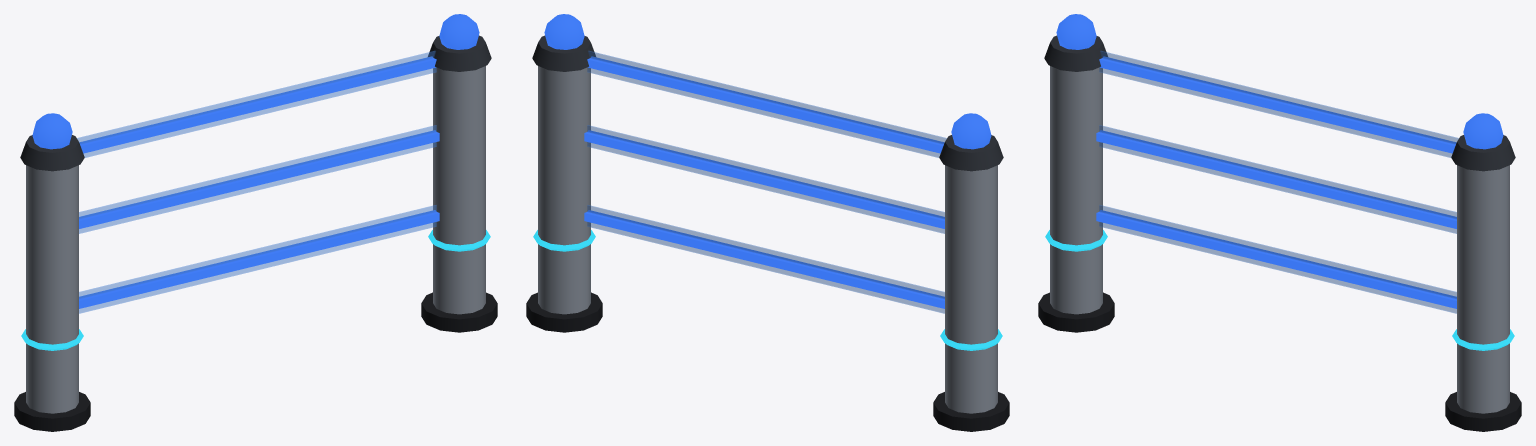
File: forcefield_barrier_bollards.glb
3 renders of one model, left to right at view 1: azimuth 30°, elevation 25°; view 2: azimuth 150°, elevation 25°; view 3: azimuth 330°, elevation 25°, orthographic.
Visible parts, largest first — view 1: forcefield_barrier_bollards; view 2: forcefield_barrier_bollards; view 3: forcefield_barrier_bollards.
Part boxes in pixels (box(x1,y1,x2,y2)): forcefield_barrier_bollards: box(14, 14, 497, 431); forcefield_barrier_bollards: box(526, 14, 1009, 431); forcefield_barrier_bollards: box(1038, 14, 1521, 431).
Size of the model in its own units: 1.86 by 1.13 by 0.26.
